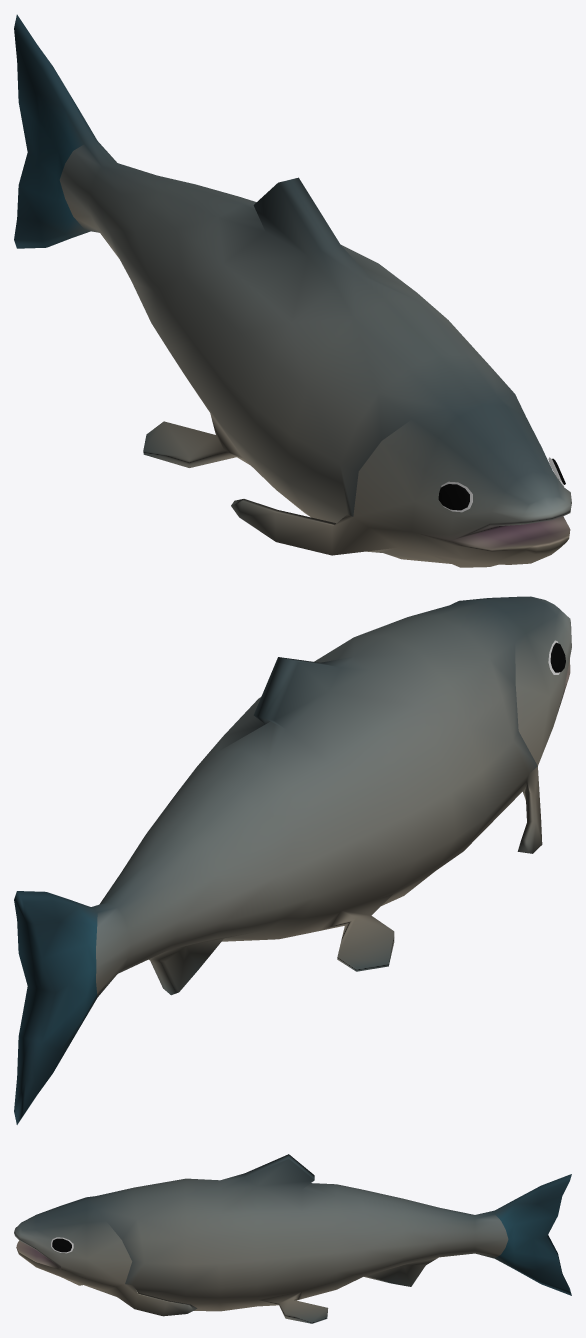
3 views of the same model, one above another, from view 1: azimuth 30°, elevation 25°; view 2: azimuth 150°, elevation 25°; view 3: azimuth 270°, elevation 25° (orthographic). The views are drawn at different scales.
Visible parts, largest first — view 1: base.818; view 2: base.818; view 3: base.818.
Boxes of the visible parts, left/top/right/bottom form: base.818: left=14, top=14, right=571, bottom=567; base.818: left=14, top=596, right=571, bottom=1124; base.818: left=14, top=1154, right=571, bottom=1323.
Size of the model in its own units: 0.1603 by 0.1454 by 0.5.
